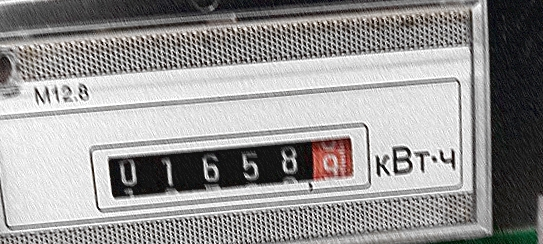0: (114, 154, 138, 188)
1: (158, 155, 174, 187)
5: (238, 148, 260, 182)
6: (198, 151, 221, 183)
8: (277, 143, 298, 176)
9: (317, 151, 338, 179)
screen: (79, 113, 376, 217)
